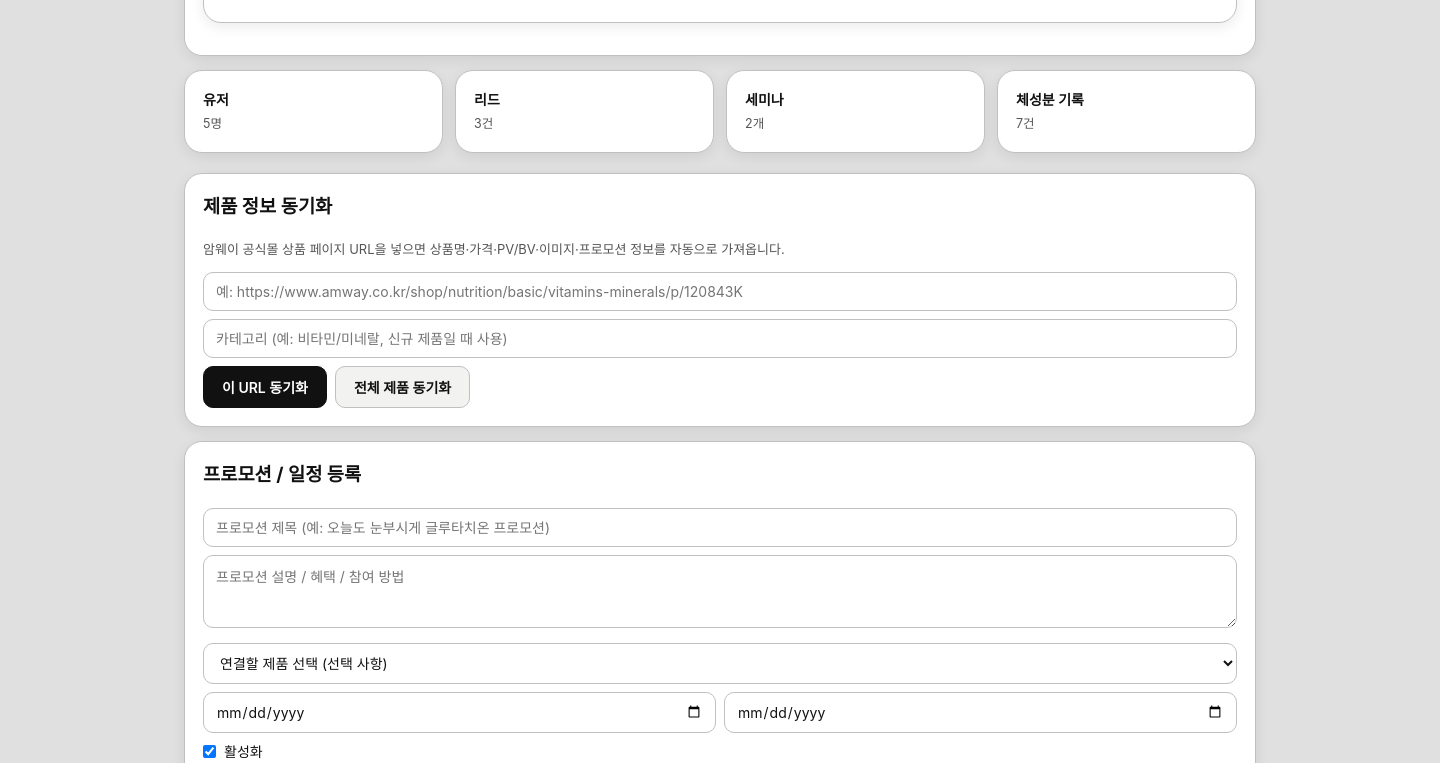
Scenario: Admin 제품 동기화 › URL이 없으면 입력 안내를 보여준다
(page scrolled)
Check: the text "5명" is shown, box [203,116,222,131]
Step 1. Click the button "이 URL 동기화" → (265, 388), box [203,366,327,408]
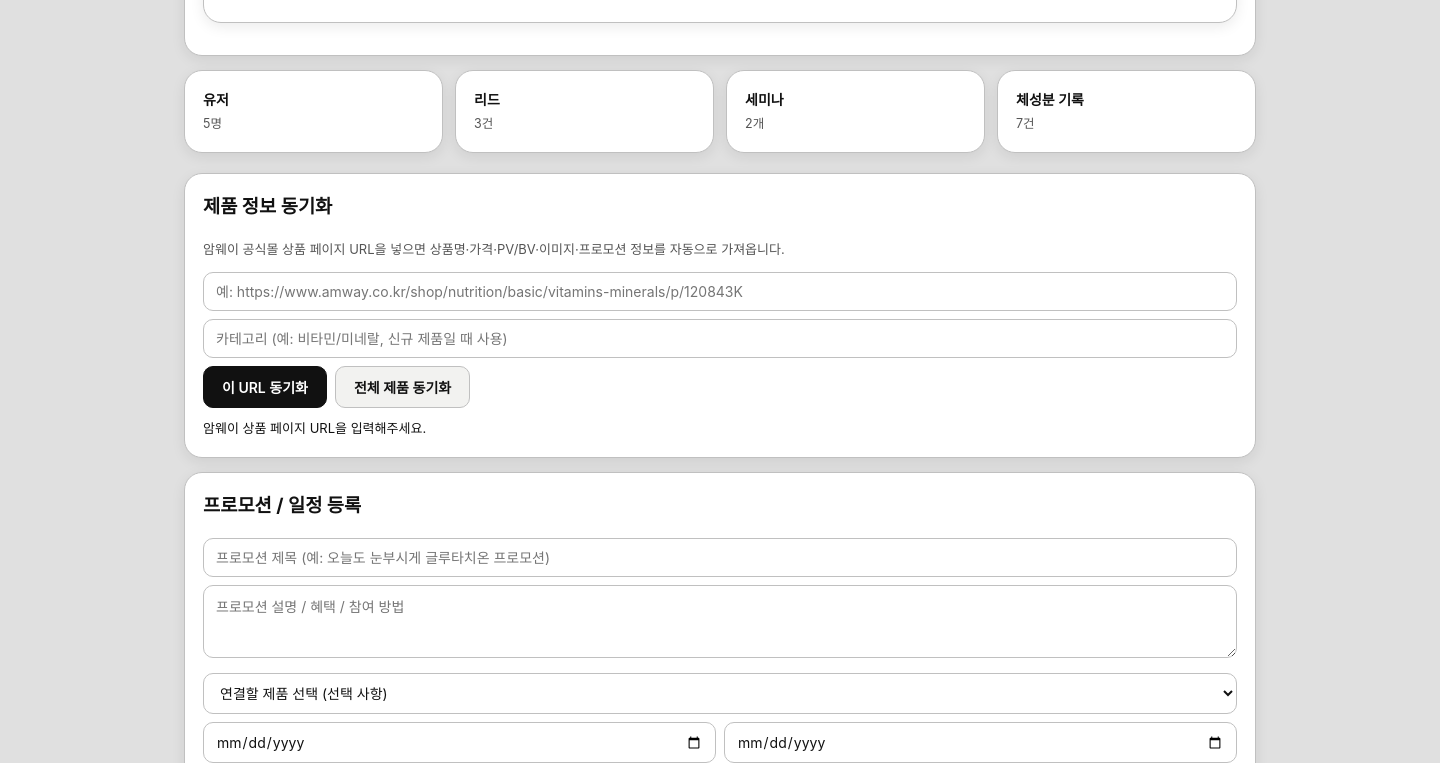
Check: the text "암웨이 상품 페이지 URL을 입력해주세요." is shown, box [203,420,426,436]
